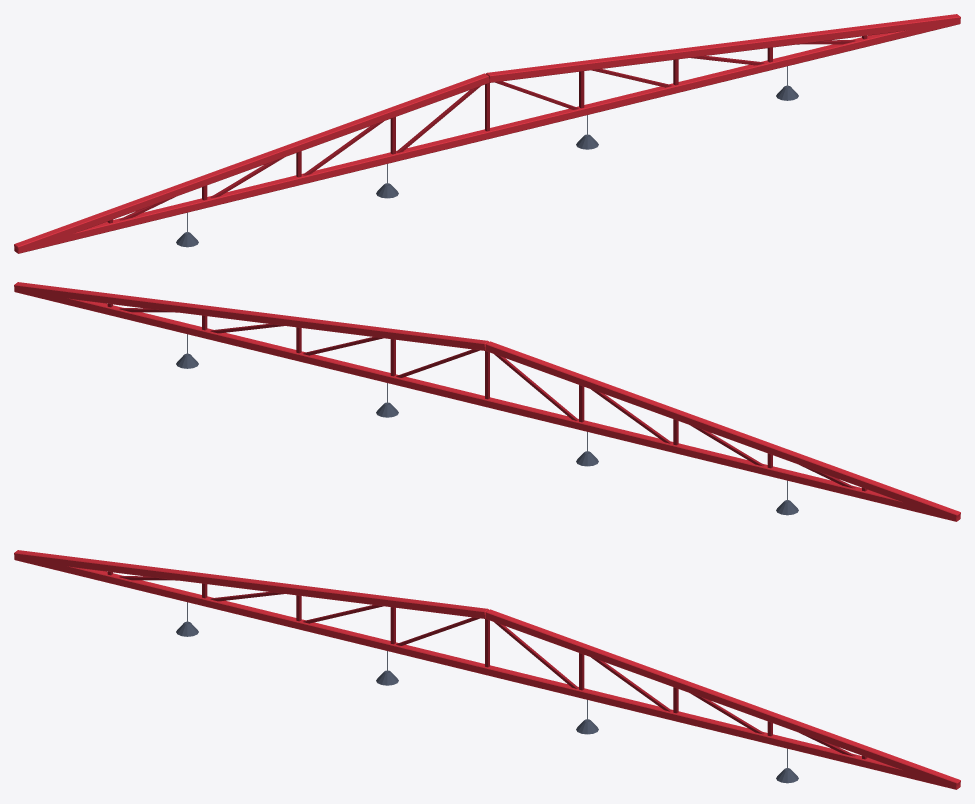
The model's file is RoofTruss.fbx.
3 renders of one model, top to bottom at view 1: azimuth 30°, elevation 25°; view 2: azimuth 150°, elevation 25°; view 3: azimuth 330°, elevation 25°, orthographic.
Parts seen in each view (by area): view 1: RoofTruss; view 2: RoofTruss; view 3: RoofTruss.
Boxes of the visible parts, x1,y1,x2,y2 form: RoofTruss: (14, 14, 960, 253); RoofTruss: (14, 282, 960, 521); RoofTruss: (14, 550, 960, 789).
Size of the model in its own units: 132 by 12.79 by 2.8.
2 materials, 1 textured.
